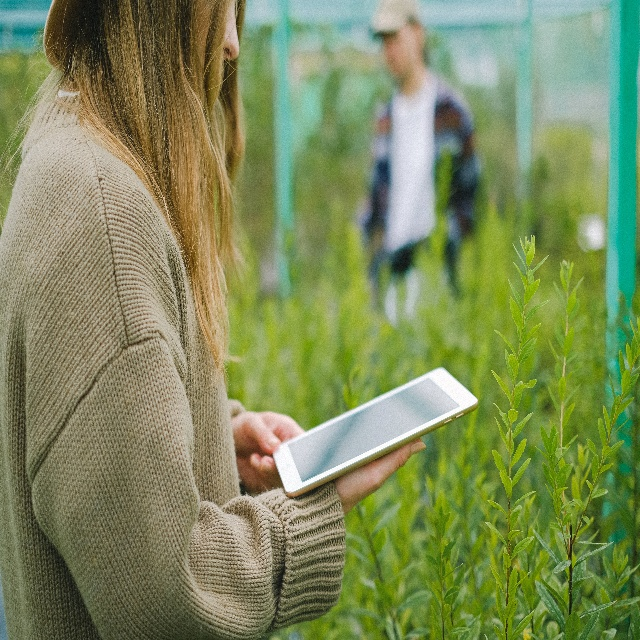Sin_guantes: (228, 404, 308, 495), (334, 437, 426, 515)
